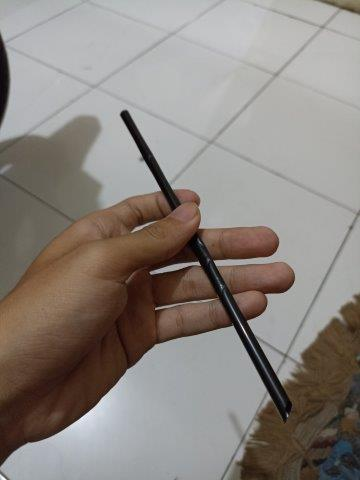sedotan: (120, 109, 291, 420)
